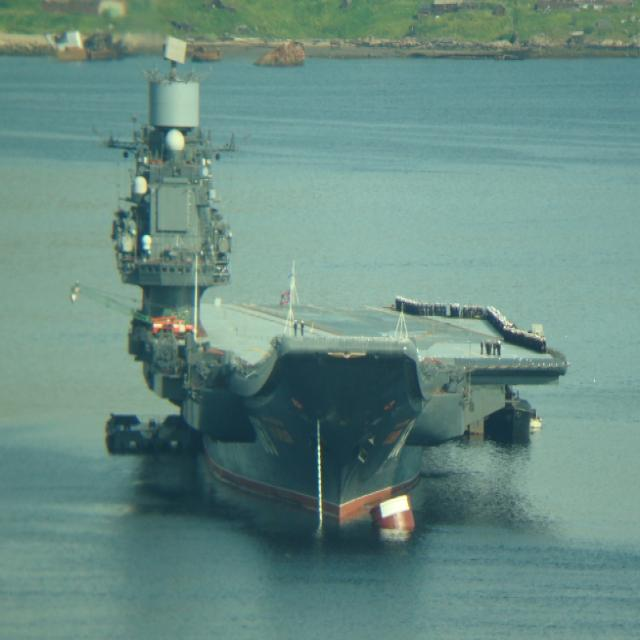Portanaves: (97, 26, 576, 559)
